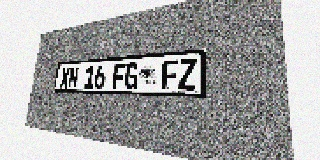1: (83, 65, 96, 89)
6: (93, 65, 106, 89)
F: (161, 59, 178, 90), (112, 63, 126, 89)
G: (124, 62, 139, 89)
N: (68, 66, 79, 88)
X: (59, 67, 70, 88)
Z: (178, 58, 196, 90)
